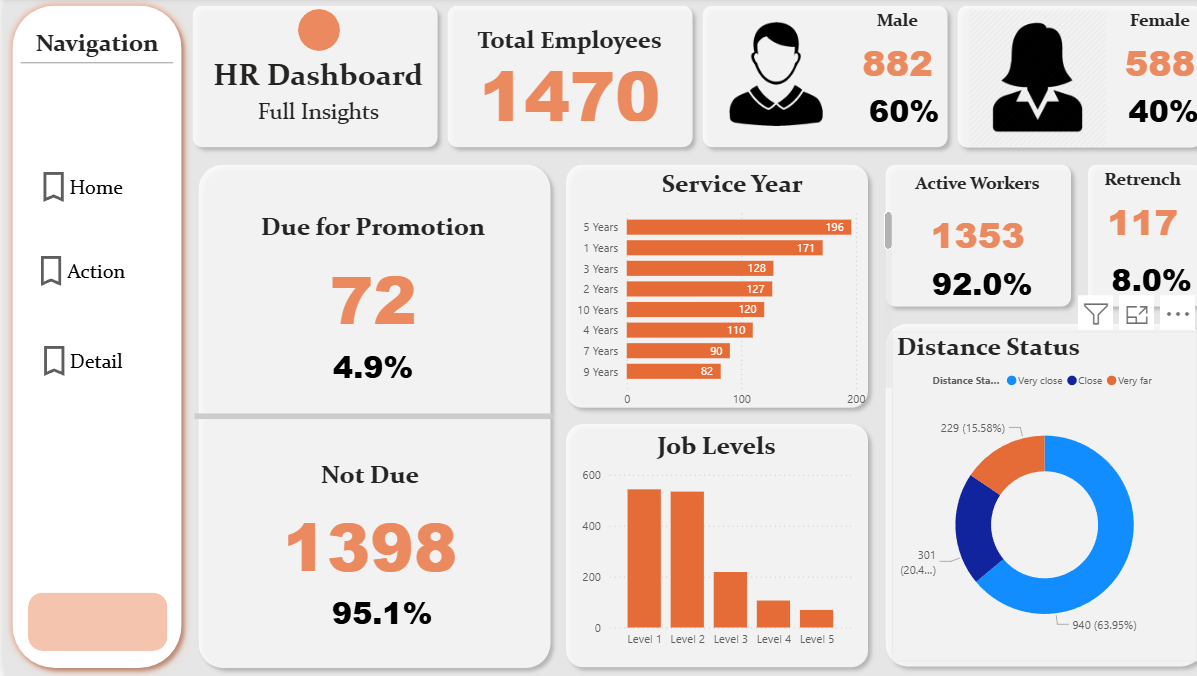

The page's visual inventory and layout, read from the dashboard file:
{"tool":"powerbi","page":{"name":"Home","canvas":[1280,720],"ordinal":0},"visuals":[{"type":"shape","box":[0,0,197.2,720.5],"z":500},{"type":"shape","box":[190.9,0,277.8,168.2],"z":1000},{"type":"shape","box":[461.1,0,277.8,168.2],"z":2000},{"type":"shape","box":[731.3,0,277.8,168.2],"z":3000},{"type":"shape","box":[1002.1,0,276.8,168.6],"z":4000},{"type":"shape","box":[196.5,168.2,391.2,551.8],"z":5000},{"type":"shape","box":[587.7,168.2,338.3,275.9],"z":6000},{"type":"shape","box":[587.7,444.1,338.3,275.9],"z":7000},{"type":"shape","box":[925.7,168.6,214.7,168.6],"z":8000},{"type":"shape","box":[1140.5,168.6,138.4,168.6],"z":9000},{"type":"shape","box":[925.7,337.2,354.7,381.7],"z":10000},{"type":"textbox","box":[197.2,57.3,272,55.7],"z":11000},{"type":"textbox","box":[197.2,101.8,272,55.7],"z":12000},{"type":"shape","box":[311.8,12.7,44.5,44.5],"z":13000},{"type":"card","title":"Total Employees","fields":{"Values":["New Measures.Total Emp"]},"box":[493.1,30.2,213.1,106.6],"z":14000},{"type":"card","title":"Male","fields":{"Values":["New Measures.Male"]},"box":[892.3,12.7,109.8,89.1],"z":15000},{"type":"card","title":"Male","fields":{"Values":["New Measures.% Male"]},"box":[903.5,89.1,101.8,62],"z":16000},{"type":"card","title":"Female","fields":{"Values":["New Measures.Female"]},"box":[1170.7,12.7,109.8,89.1],"z":17000},{"type":"card","title":"Male","fields":{"Values":["New Measures.% Female"]},"box":[1178.6,89.1,101.8,62],"z":18000},{"type":"card","title":"Due for Promotion","fields":{"Values":["New Measures.Due for promotion"]},"box":[261.4,228,260.9,143.2],"z":19000},{"type":"card","title":"Male","fields":{"Values":["New Measures.% Due for promotion"]},"box":[340.9,361.6,101.8,62],"z":20000},{"type":"card","title":"Not Due","fields":{"Values":["New Measures.Not Due"]},"box":[257.6,489.3,260.9,143.2],"z":21000},{"type":"card","title":"Male","fields":{"Values":["New Measures.% Not due"]},"box":[337.7,622.5,127.2,60.4],"z":22000},{"type":"shape","box":[202,408.8,380.2,71.6],"z":23000},{"type":"barChart","title":"Service Year","fields":{"Category":["HR Analytics Data.Service Year"],"Y":["New Measures.Total Emp"]},"box":[598.1,181.3,348.3,262.5],"z":24000},{"type":"columnChart","title":"Job Levels","fields":{"Category":["HR Analytics Data.Job Level"],"Y":["New Measures.Total Emp"]},"box":[607.6,459.7,295.9,238.6],"z":25000},{"type":"card","title":"Male","fields":{"Values":["New Measures.% On Service"]},"box":[974.1,275.7,127.2,57.3],"z":26000},{"type":"card","title":"Active Workers","fields":{"Values":["New Measures.On Service"]},"box":[959.8,186.6,146.3,106.6],"z":27000},{"type":"donutChart","title":"Distance Status","fields":{"Category":["HR Analytics Data.Distance Status"],"Y":["New Measures.Total Emp"]},"box":[941.6,354.7,322.9,349.9],"z":28000},{"type":"card","title":"Retrench","fields":{"Values":["New Measures.Will be retrenched"]},"box":[1134.2,181.3,146.3,89.1],"z":29000},{"type":"card","title":"Male","fields":{"Values":["New Measures.% Will be retrenched"]},"box":[1153.3,270.4,127.2,57.3],"z":30000},{"type":"image","box":[1002.1,11.1,187.7,147.9],"z":31000},{"type":"image","box":[746,25.4,146.3,111.3],"z":32000},{"type":"actionButton","title":"Home","box":[0,163.8,162.2,74.8],"z":32001},{"type":"actionButton","title":"Home","box":[0,252.9,162.2,74.8],"z":32002},{"type":"actionButton","title":"Home","box":[0,348.3,162.2,74.8],"z":32003},{"type":"actionButton","title":"Navigation","box":[17.5,33.4,162.2,79.5],"z":32004},{"type":"shape","box":[25.4,631.5,147.9,62],"z":32005}]}

Visuals, with their boxes in screenshot pixels (x1, y1, x2, y2), scaled from the page's 1280x720 canvas onto the 1197x676 screenshot:
shape: bbox=(0, 0, 184, 675)
shape: bbox=(179, 0, 438, 158)
shape: bbox=(431, 0, 691, 158)
shape: bbox=(684, 0, 944, 158)
shape: bbox=(937, 0, 1196, 158)
shape: bbox=(184, 158, 550, 675)
shape: bbox=(550, 158, 866, 417)
shape: bbox=(550, 417, 866, 675)
shape: bbox=(866, 158, 1066, 317)
shape: bbox=(1067, 158, 1196, 317)
shape: bbox=(866, 317, 1196, 675)
textbox: bbox=(184, 54, 439, 106)
textbox: bbox=(184, 96, 439, 148)
shape: bbox=(292, 12, 333, 54)
"Total Employees" card: bbox=(461, 28, 660, 128)
"Male" card: bbox=(834, 12, 937, 96)
"Male" card: bbox=(845, 84, 940, 142)
"Female" card: bbox=(1095, 12, 1196, 96)
"Male" card: bbox=(1102, 84, 1196, 142)
"Due for Promotion" card: bbox=(244, 214, 488, 349)
"Male" card: bbox=(319, 340, 414, 398)
"Not Due" card: bbox=(241, 459, 485, 594)
"Male" card: bbox=(316, 584, 435, 641)
shape: bbox=(189, 384, 544, 451)
"Service Year" barChart: bbox=(559, 170, 885, 417)
"Job Levels" columnChart: bbox=(568, 432, 845, 656)
"Male" card: bbox=(911, 259, 1030, 313)
"Active Workers" card: bbox=(898, 175, 1034, 275)
"Distance Status" donutChart: bbox=(881, 333, 1183, 662)
"Retrench" card: bbox=(1061, 170, 1196, 254)
"Male" card: bbox=(1079, 254, 1196, 308)
image: bbox=(937, 10, 1113, 149)
image: bbox=(698, 24, 834, 128)
"Home" actionButton: bbox=(0, 154, 152, 224)
"Home" actionButton: bbox=(0, 237, 152, 308)
"Home" actionButton: bbox=(0, 327, 152, 397)
"Navigation" actionButton: bbox=(16, 31, 168, 106)
shape: bbox=(24, 593, 162, 651)
